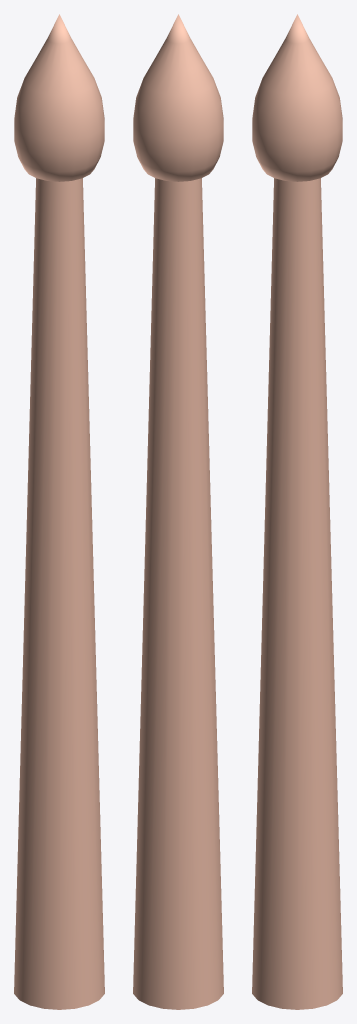
The model's file is Castillo_PilarE.fbx.
3 renders of one model, left to right at view 1: azimuth 30°, elevation 25°; view 2: azimuth 210°, elevation 25°; view 3: azimuth 270°, elevation 25°, orthographic.
Parts seen in each view (by area): view 1: Castillo_PilarE; view 2: Castillo_PilarE; view 3: Castillo_PilarE.
Boxes of the visible parts, x1=… form: Castillo_PilarE: x1=14, y1=14, x2=104, y2=1009; Castillo_PilarE: x1=133, y1=14, x2=223, y2=1009; Castillo_PilarE: x1=252, y1=14, x2=342, y2=1009.
Bounding box in the file's own units: 4931 × 57704 × 4856.
